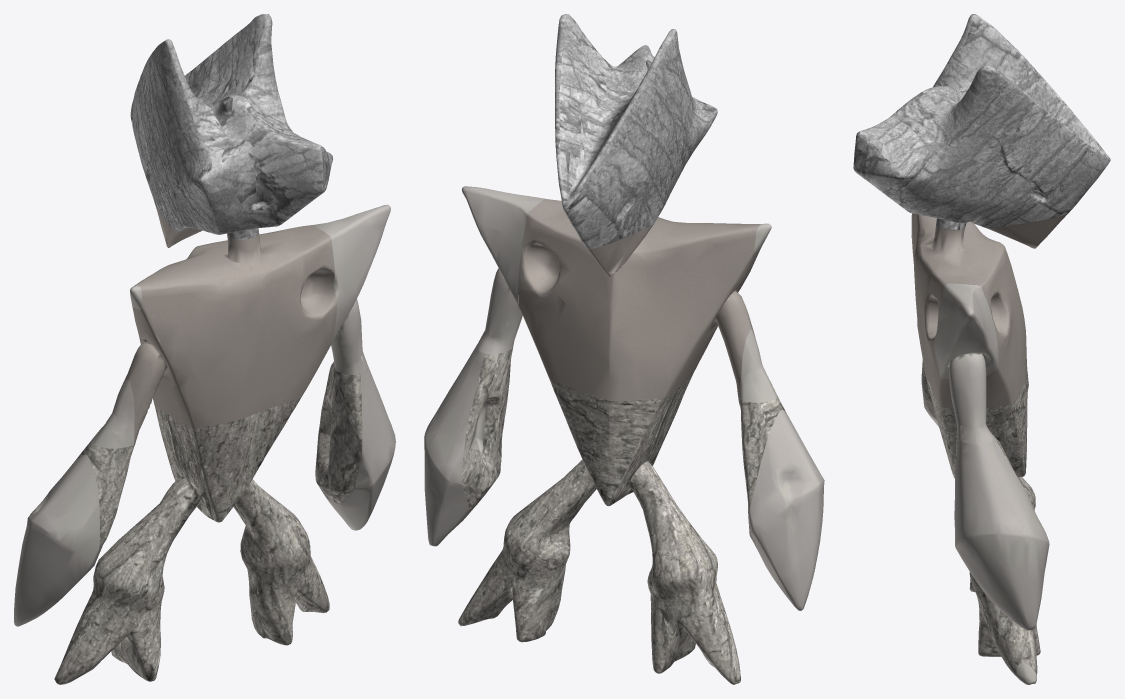
Rendered from 08-shard-asym--geometric_robot_3d_model.glb.
3 views of the same model, side by side, from view 1: azimuth 30°, elevation 25°; view 2: azimuth 150°, elevation 25°; view 3: azimuth 270°, elevation 25° (orthographic). The views are drawn at different scales.
Visible parts, largest first — view 1: feet_mesh, body_mesh, head_mesh, arms_mesh; view 2: feet_mesh, body_mesh, arms_mesh, head_mesh; view 3: head_mesh, arms_mesh, body_mesh, feet_mesh.
Part boxes in pixels (x1,y1,x2,y2): feet_mesh: (54, 363, 362, 684); body_mesh: (124, 203, 336, 444); head_mesh: (130, 14, 332, 239); arms_mesh: (14, 204, 395, 626); feet_mesh: (461, 347, 786, 684); body_mesh: (518, 199, 761, 401); arms_mesh: (424, 186, 824, 626); head_mesh: (555, 14, 717, 249); head_mesh: (853, 14, 1110, 230); arms_mesh: (923, 283, 1049, 684); body_mesh: (911, 213, 1067, 408); feet_mesh: (921, 360, 1040, 678).
Bounding box in the file's own units: 1.88 × 3 × 1.19.
Materials: 4 (4 with a texture image).
